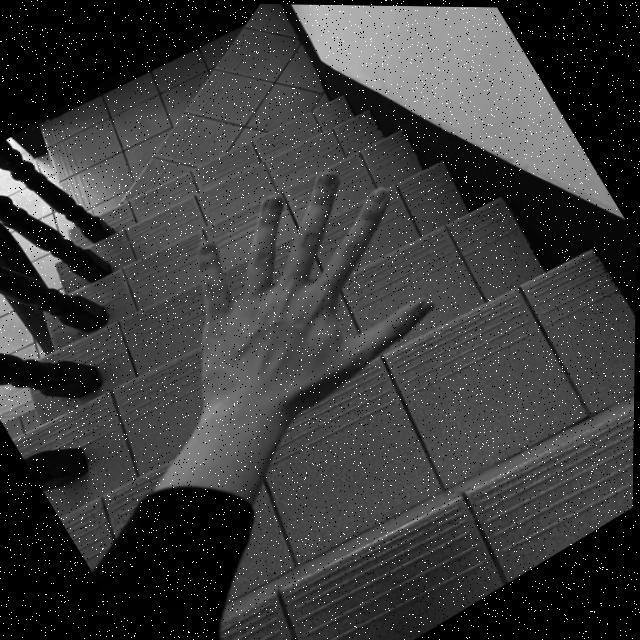no-gloves: (126, 131, 472, 456)
